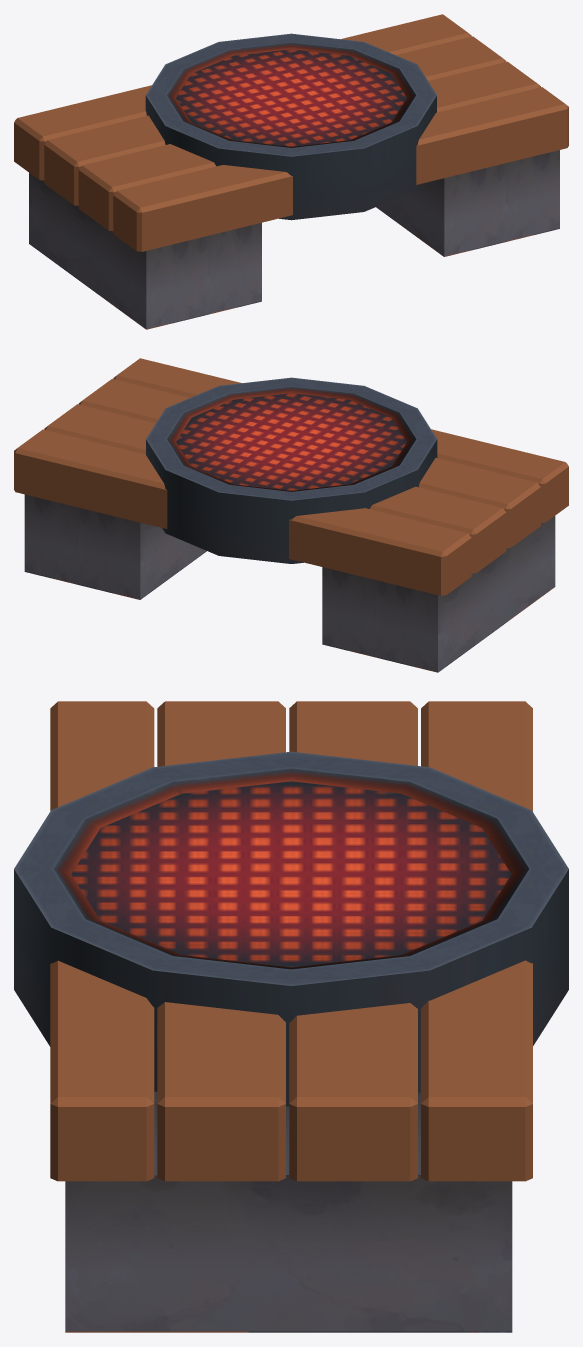
Rendered from kaorou_taizi.fbx.
3 renders of one model, top to bottom at view 1: azimuth 30°, elevation 25°; view 2: azimuth 150°, elevation 25°; view 3: azimuth 270°, elevation 25°, orthographic. The views are drawn at different scales.
Parts seen in each view (by area): view 1: kaorou_taizi; view 2: kaorou_taizi; view 3: kaorou_taizi.
Boxes of the visible parts, <box> form: kaorou_taizi: <box>14,14,568,329</box>; kaorou_taizi: <box>14,358,568,672</box>; kaorou_taizi: <box>14,701,568,1332</box>.
Bounding box in the file's own units: 753 × 235 × 440.
